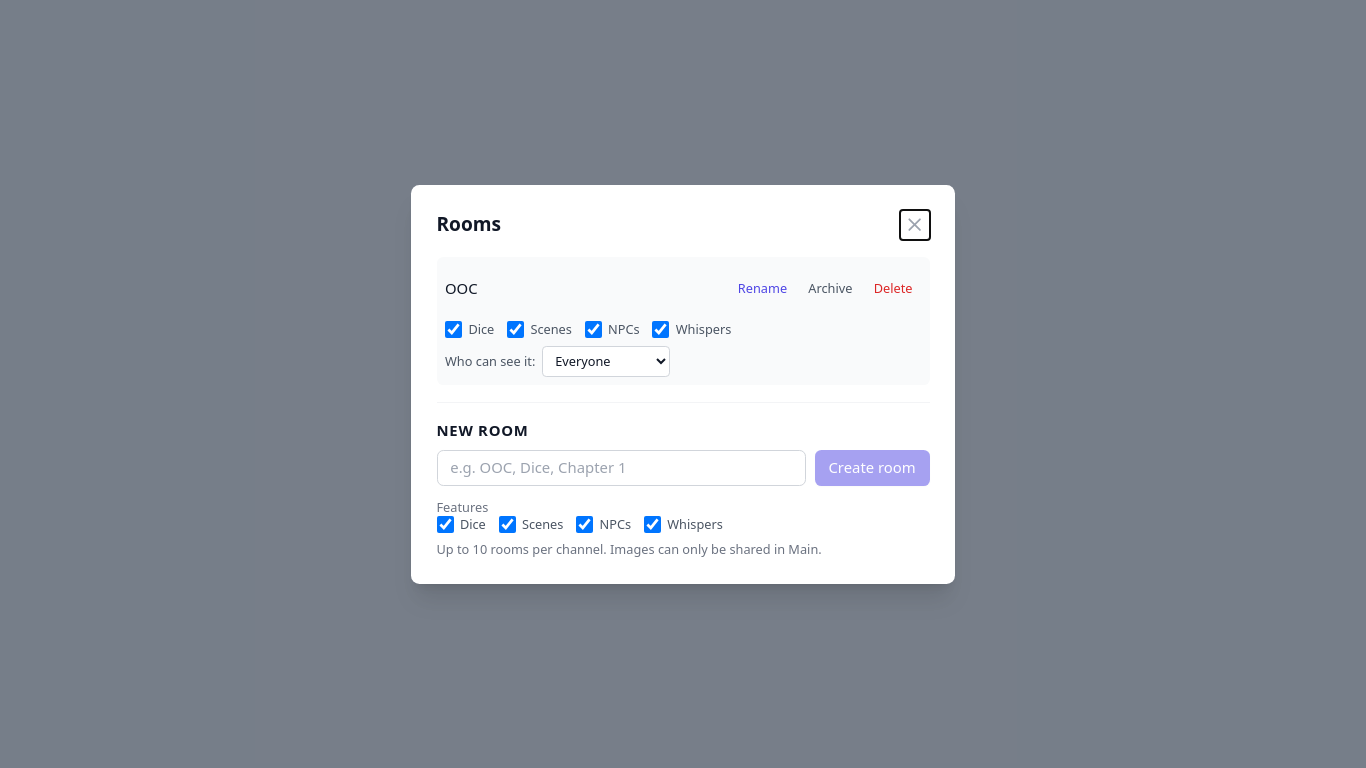
it: ManageSubChannelsModal › surfaces the server refusal when a non-empty room cannot be deleted
The image size is (1366, 768).
Click the button with aria-label "Delete OOC" at (893, 289), box [865,265,921,312]
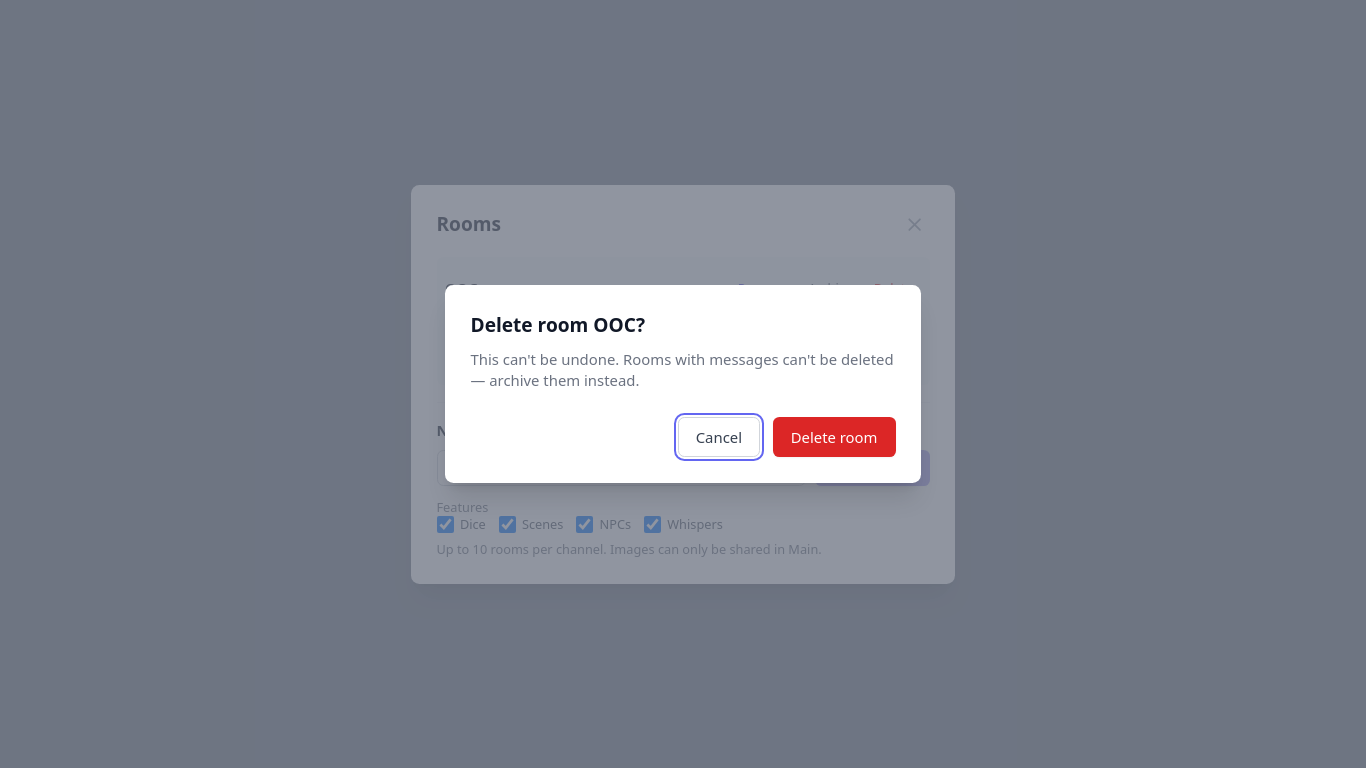
Click the button "Delete room" at (834, 437), box [773,417,896,457]
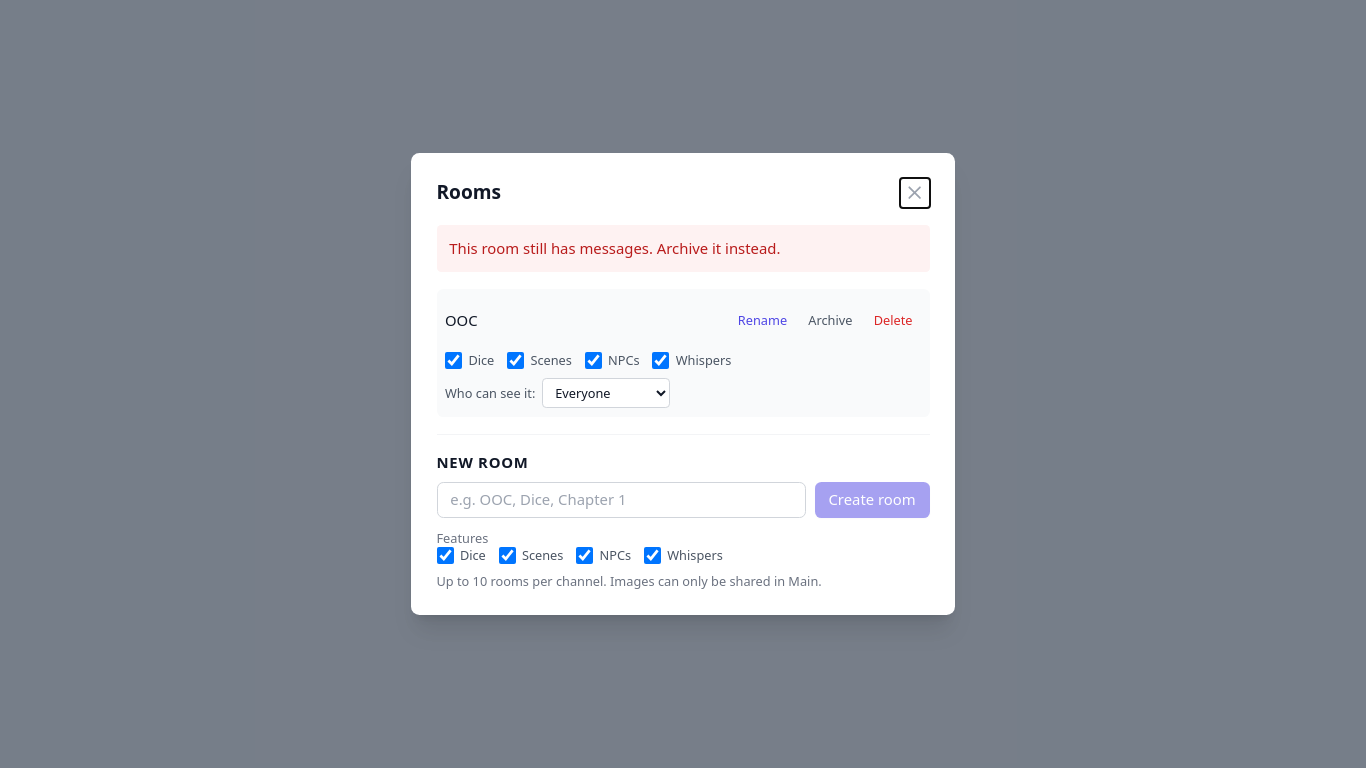
Check: the text "This room still has messages. Archive it instead." is shown, box [436,225,930,272]
